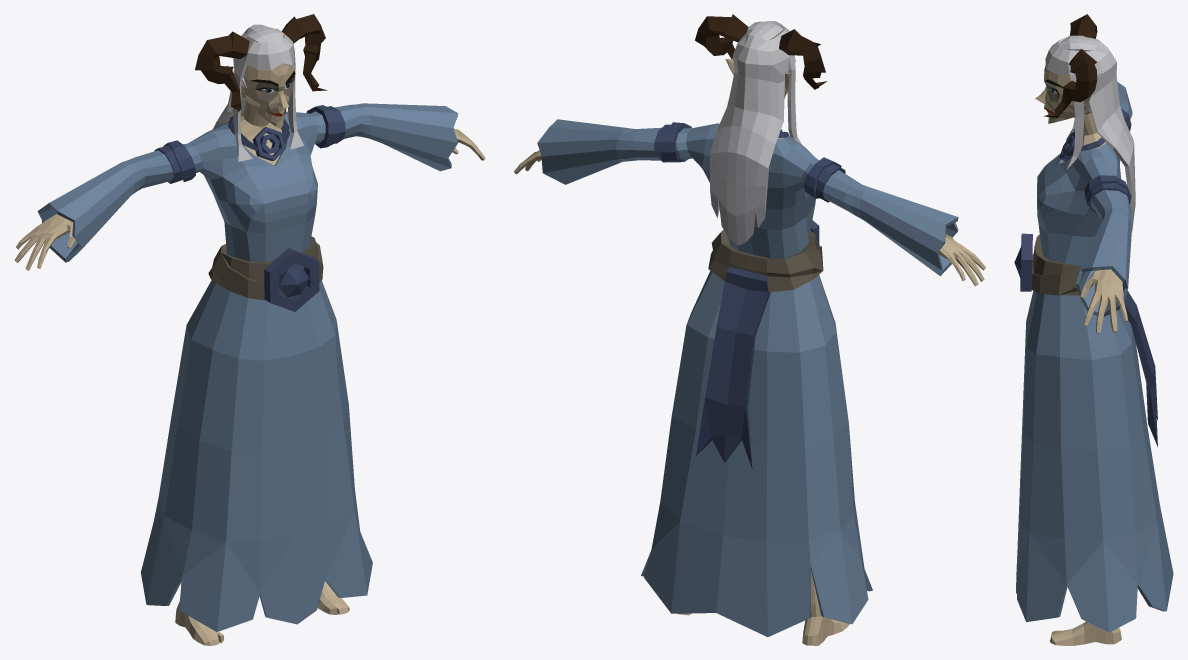
File: Fantasy_F_1.fbx
3 views of the same model, side by side, from view 1: azimuth 30°, elevation 25°; view 2: azimuth 150°, elevation 25°; view 3: azimuth 270°, elevation 25° (orthographic). The views are drawn at different scales.
Visible parts, largest first — view 1: Fantasy_F_1, Fantasy_F_1.003, Fantasy_F_1.001, Fantasy_F_1.006, Fantasy_F_1.002, Fantasy_F_1.005, Fantasy_F_1.004; view 2: Fantasy_F_1, Fantasy_F_1.006, Fantasy_F_1.001, Fantasy_F_1.004, Fantasy_F_1.005; view 3: Fantasy_F_1, Fantasy_F_1.006, Fantasy_F_1.003, Fantasy_F_1.004, Fantasy_F_1.001, Fantasy_F_1.002.
Boxes of the visible parts, x1=… form: Fantasy_F_1: x1=14, y1=24, x2=485, y2=645; Fantasy_F_1.003: x1=264, y1=248, x2=319, y2=311; Fantasy_F_1.001: x1=195, y1=31, x2=249, y2=111; Fantasy_F_1.006: x1=282, y1=14, x2=327, y2=91; Fantasy_F_1.002: x1=228, y1=113, x2=290, y2=160; Fantasy_F_1.005: x1=154, y1=140, x2=195, y2=183; Fantasy_F_1.004: x1=306, y1=105, x2=345, y2=148; Fantasy_F_1: x1=514, y1=21, x2=985, y2=645; Fantasy_F_1.006: x1=695, y1=14, x2=748, y2=58; Fantasy_F_1.001: x1=779, y1=29, x2=827, y2=89; Fantasy_F_1.004: x1=654, y1=122, x2=691, y2=162; Fantasy_F_1.005: x1=803, y1=157, x2=845, y2=202; Fantasy_F_1: x1=1016, y1=35, x2=1173, y2=645; Fantasy_F_1.006: x1=1044, y1=49, x2=1097, y2=117; Fantasy_F_1.003: x1=1014, y1=233, x2=1032, y2=291; Fantasy_F_1.004: x1=1084, y1=175, x2=1131, y2=213; Fantasy_F_1.001: x1=1069, y1=14, x2=1097, y2=38; Fantasy_F_1.002: x1=1059, y1=129, x2=1105, y2=161.
Bounding box in the file's own units: 149 × 182 × 45.59.
1 material, 1 textured.
